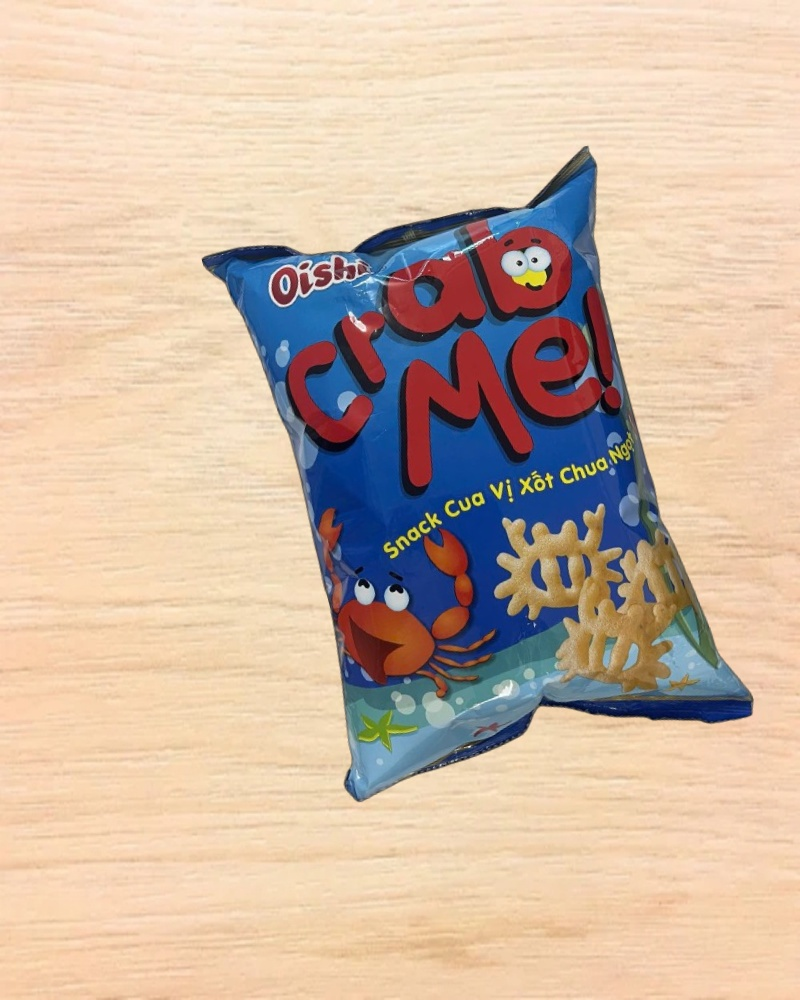Snack cua: (200, 142, 756, 816)
